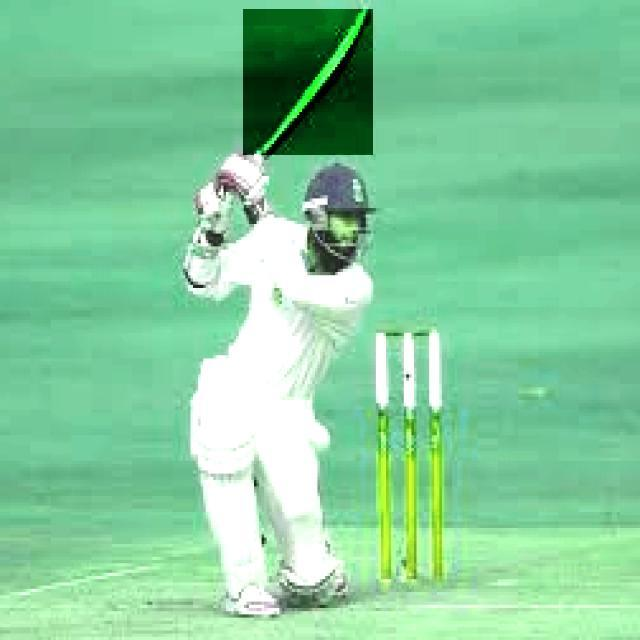bat: (244, 8, 375, 157)
toe: (356, 3, 377, 23)
